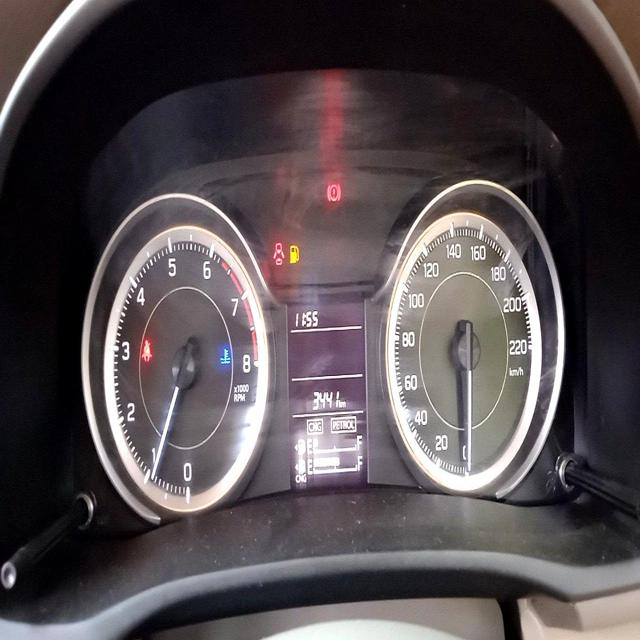odometer: (311, 386, 340, 412)
